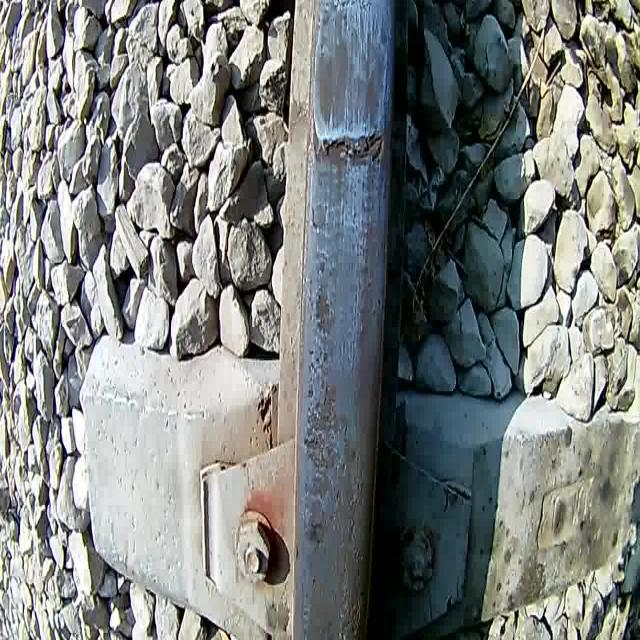Spallings: (304, 114, 395, 170)
Squats: (298, 346, 358, 554), (312, 0, 394, 129), (312, 285, 337, 338)
